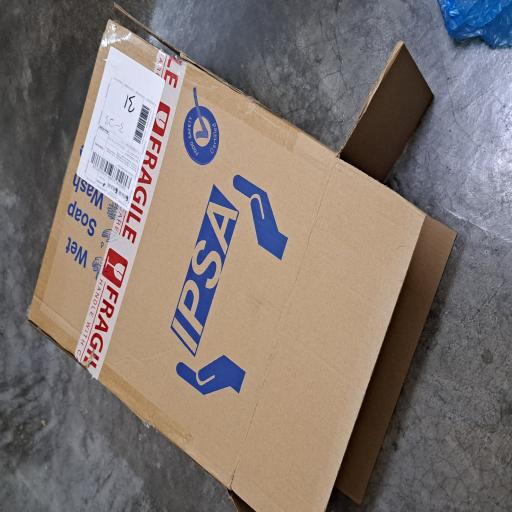cardboard: (0, 31, 384, 512)
